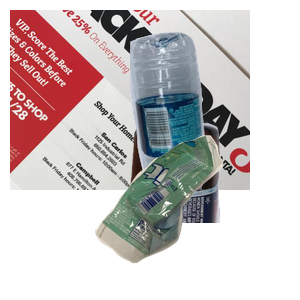glass: (29, 120, 242, 300)
paper: (10, 10, 250, 190)
plastic: (127, 29, 300, 209)
trash: (92, 133, 300, 300)
